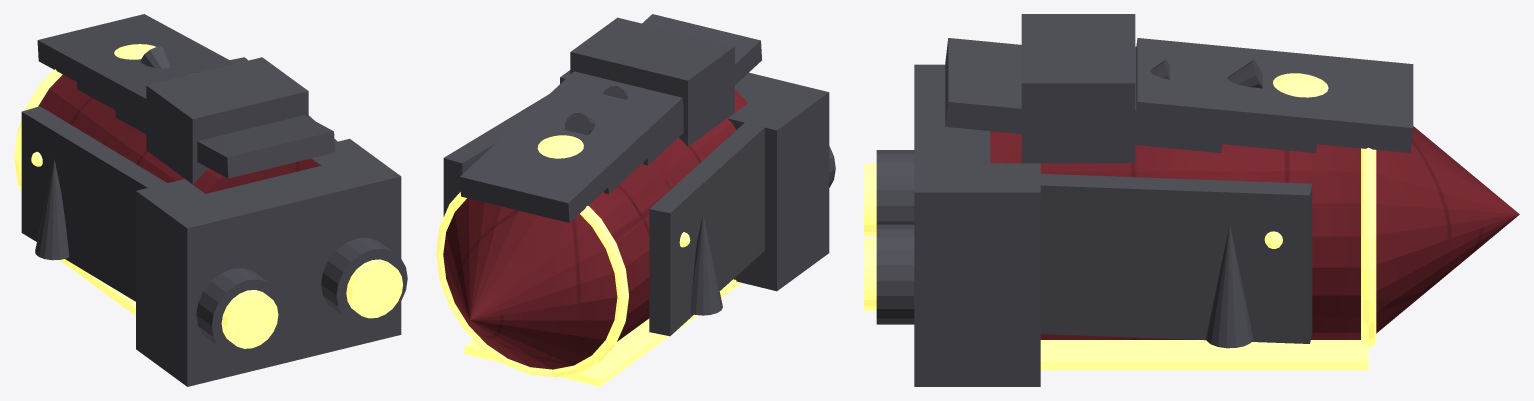
Rendered from nebula_boss.fbx.
3 views of the same model, side by side, from view 1: azimuth 30°, elevation 25°; view 2: azimuth 150°, elevation 25°; view 3: azimuth 270°, elevation 25° (orthographic). The views are drawn at different scales.
Parts seen in each view (by area): view 1: nebula_boss; view 2: nebula_boss; view 3: nebula_boss.
Part boxes in pixels (left/top/right/bottom): nebula_boss: left=14, top=14, right=407, bottom=386; nebula_boss: left=436, top=14, right=835, bottom=386; nebula_boss: left=864, top=14, right=1519, bottom=386.
Bounding box in the file's own units: 5.75 × 5.02 × 10.4.
3 materials, 1 textured.
